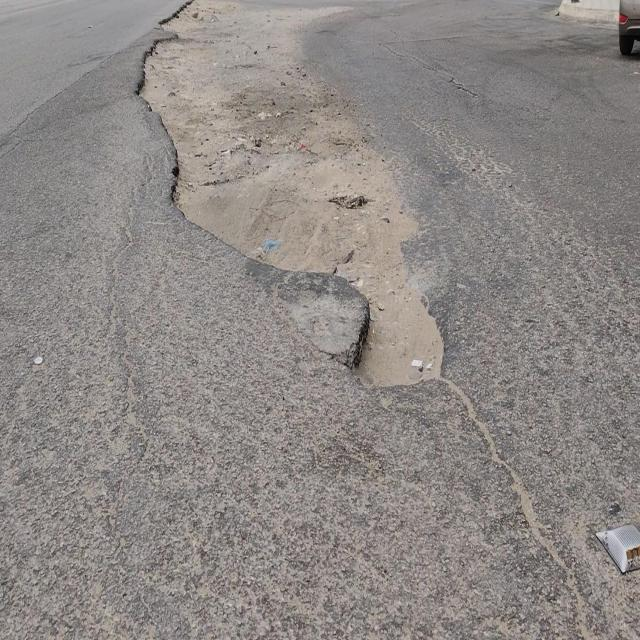Potholes: (350, 275, 448, 395), (169, 150, 239, 247), (134, 51, 185, 140), (152, 34, 176, 55)
